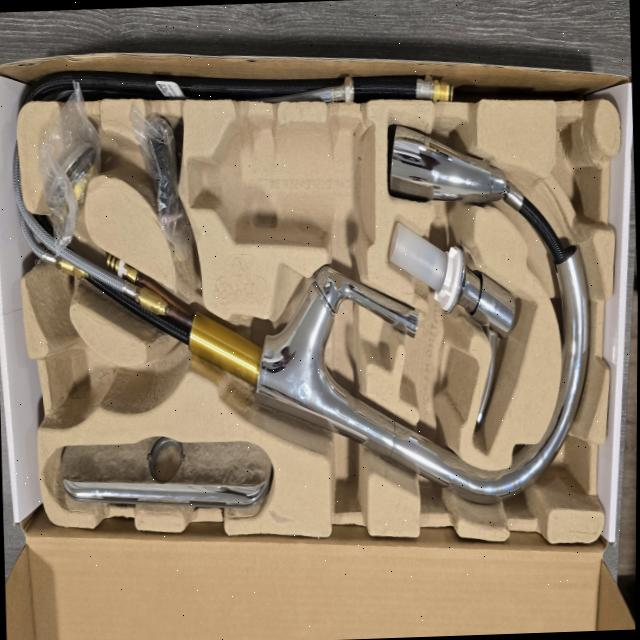1: (25, 118, 590, 508)
2: (385, 219, 519, 427)
3m: (184, 115, 375, 244)
4: (59, 431, 271, 510)
5m: (55, 341, 110, 414)
6: (36, 75, 104, 251)
7: (128, 100, 192, 265)
